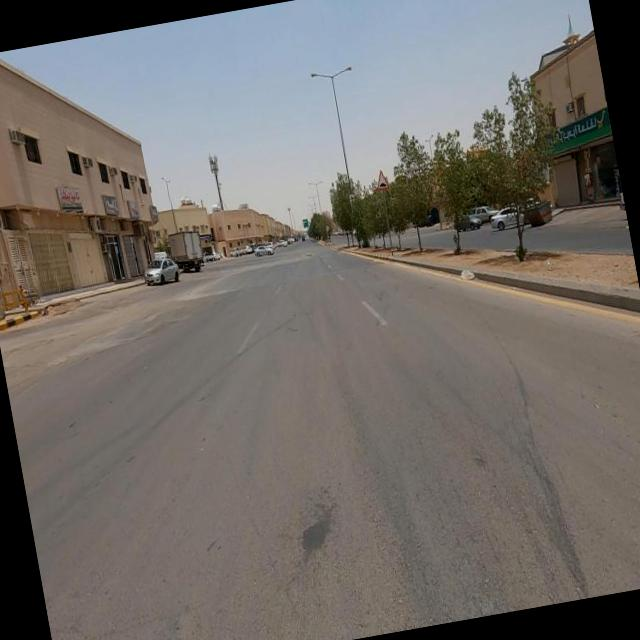debris: (438, 232, 500, 312), (525, 228, 577, 298)
